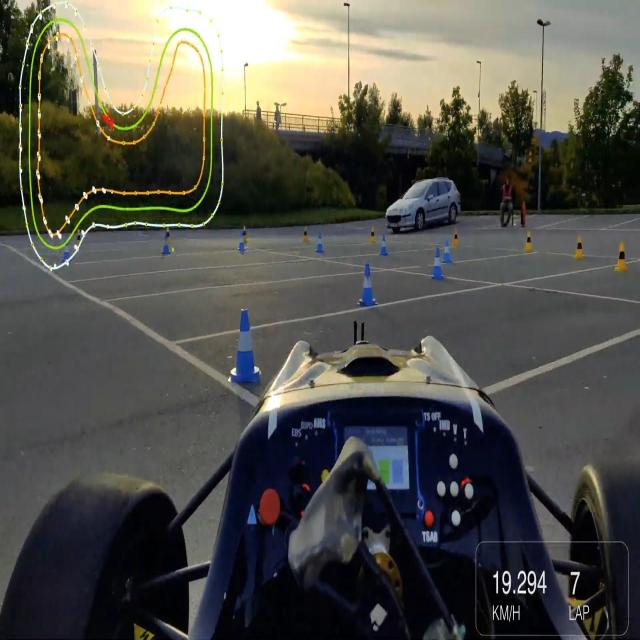blue_cone: (229, 309, 261, 386), (352, 257, 377, 312), (427, 240, 445, 288), (375, 230, 394, 266)
yellow_cone: (613, 233, 631, 277), (571, 226, 586, 261), (522, 222, 534, 255)
